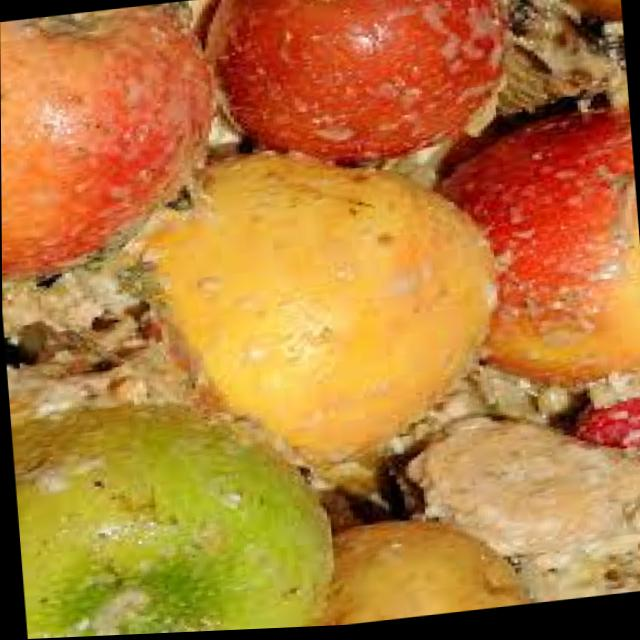Wet: (8, 385, 336, 640), (320, 395, 640, 629), (0, 2, 227, 285), (207, 0, 524, 187), (487, 119, 640, 393)
